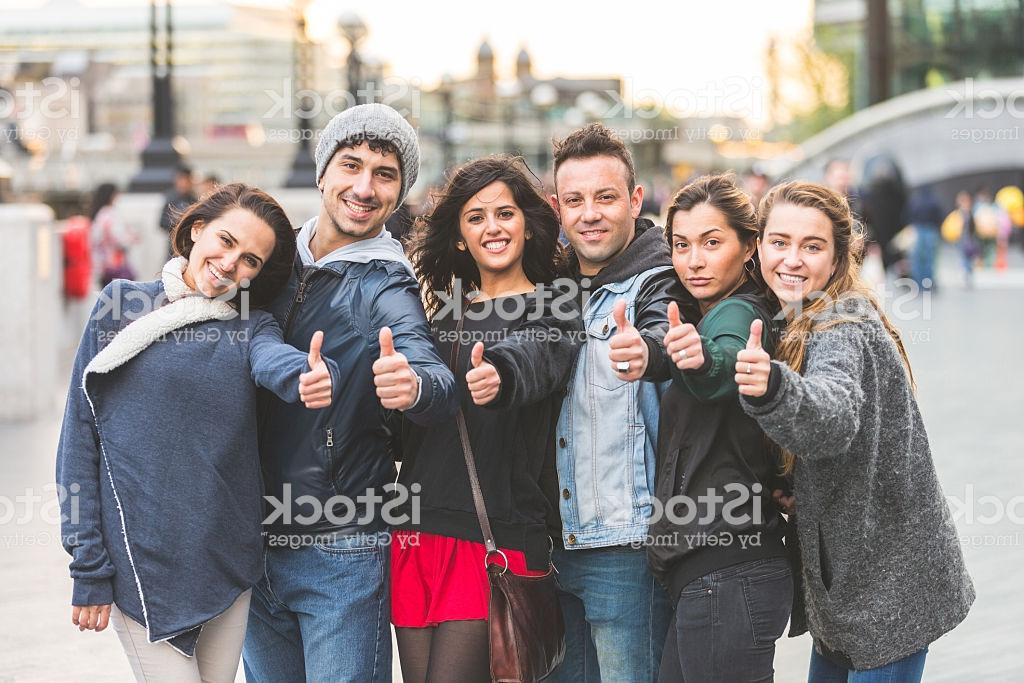thumbsup: (372, 326, 417, 412), (607, 299, 647, 382), (297, 329, 335, 411), (734, 318, 773, 397), (663, 300, 704, 372), (465, 341, 502, 407)
